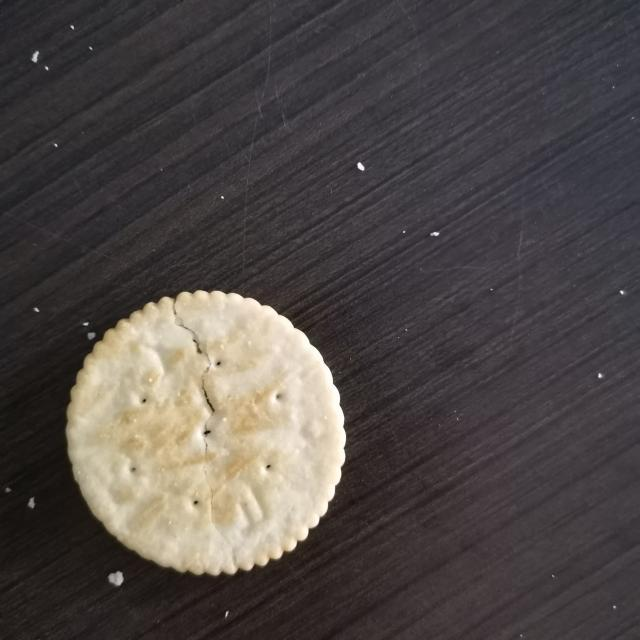Fracture: (154, 291, 242, 575)
